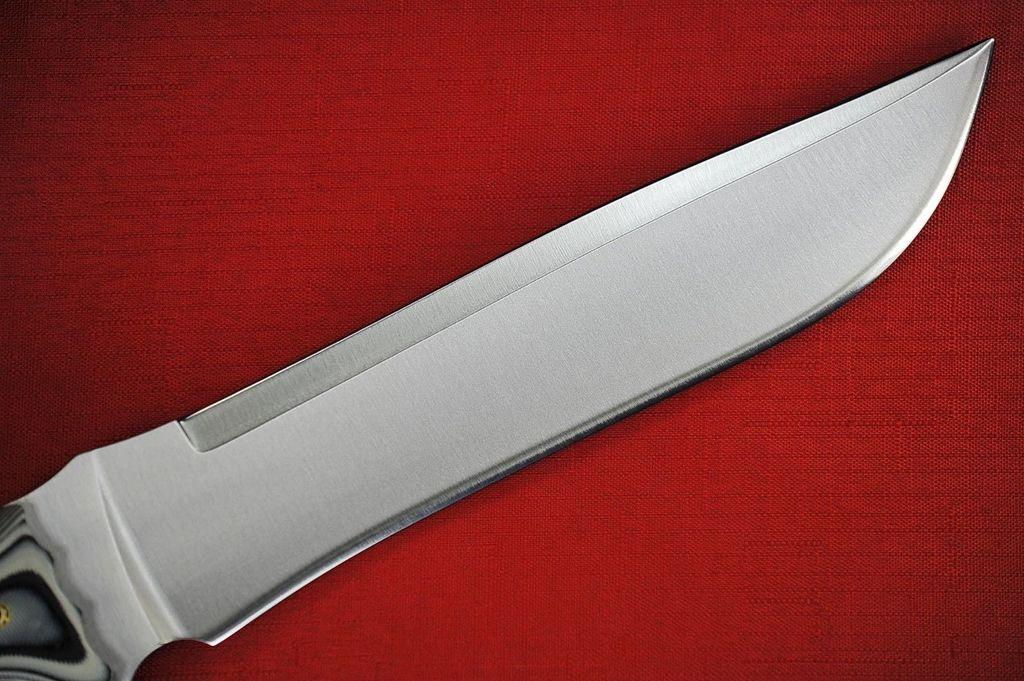Knife: (0, 35, 995, 680)
